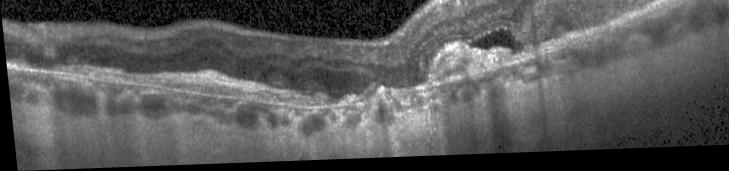neuroepithelium_detachment: (469, 32, 521, 54)
subretinal_hyperreflective_material: (60, 66, 325, 107), (428, 47, 533, 88), (336, 86, 412, 106)
